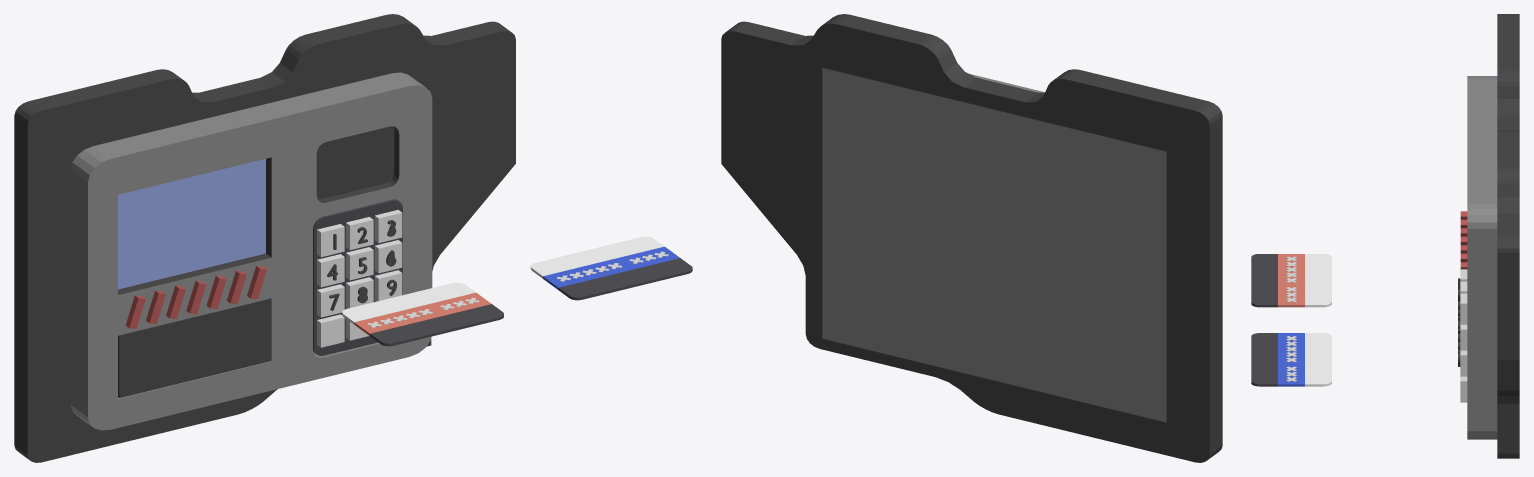
The model's file is CardsAndMachine.fbx.
3 views of the same model, side by side, from view 1: azimuth 30°, elevation 25°; view 2: azimuth 150°, elevation 25°; view 3: azimuth 270°, elevation 25° (orthographic). The views are drawn at different scales.
Visible parts, largest first — view 1: Plane, Plane.004, Plane.003; view 2: Plane; view 3: Plane, Plane.004, Plane.003.
Boxes of the visible parts, x1,y1,x2,y2 form: Plane: (14,14,515,462); Plane.004: (530,236,692,300); Plane.003: (342,282,503,346); Plane: (721,14,1222,462); Plane: (1458,14,1519,458); Plane.004: (1251,333,1331,386); Plane.003: (1251,254,1331,307).
Bounding box in the file's own units: 279 × 178 × 143.
